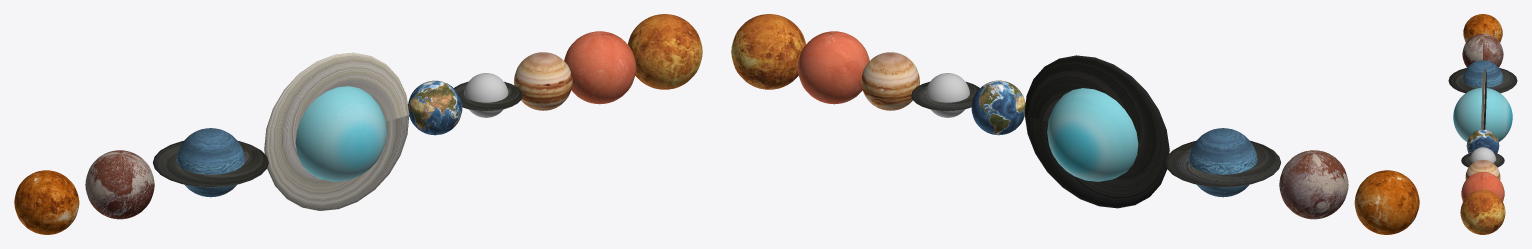
Rendered from planet-pack.obj.
3 renders of one model, left to right at view 1: azimuth 30°, elevation 25°; view 2: azimuth 150°, elevation 25°; view 3: azimuth 270°, elevation 25°, orthographic. The views are drawn at different scales.
Visible parts, largest first — view 1: Torus1, Sphere3, Sphere8, Sphere7, Sphere1, Sphere, Sphere2, Sphere6, Torus, Sphere4, Sphere5, Torus2; view 2: Torus1, Sphere3, Sphere8, Sphere7, Sphere1, Sphere, Sphere2, Sphere6, Torus, Sphere4, Sphere5, Torus2; view 3: Sphere3, Sphere8, Sphere1, Sphere2, Sphere7, Sphere, Torus, Sphere4, Sphere6, Sphere5, Torus1, Torus2.
Boxes of the visible parts, left/top/right/bottom form: Torus1: left=264, top=52, right=409, bottom=210; Sphere3: left=295, top=86, right=386, bottom=181; Sphere8: left=627, top=14, right=702, bottom=89; Sphere7: left=564, top=31, right=636, bottom=104; Sphere1: left=85, top=150, right=154, bottom=219; Sphere: left=14, top=170, right=79, bottom=234; Sphere2: left=176, top=128, right=245, bottom=197; Sphere6: left=514, top=52, right=572, bottom=110; Torus: left=153, top=141, right=268, bottom=187; Sphere4: left=408, top=80, right=462, bottom=135; Sphere5: left=464, top=73, right=508, bottom=117; Torus2: left=454, top=81, right=522, bottom=111; Torus1: left=1024, top=55, right=1169, bottom=208; Sphere3: left=1047, top=88, right=1138, bottom=181; Sphere8: left=731, top=14, right=806, bottom=89; Sphere7: left=797, top=31, right=869, bottom=104; Sphere1: left=1279, top=150, right=1348, bottom=219; Sphere: left=1354, top=170, right=1419, bottom=234; Sphere2: left=1188, top=128, right=1257, bottom=197; Sphere6: left=861, top=52, right=919, bottom=110; Torus: left=1165, top=141, right=1280, bottom=187; Sphere4: left=971, top=80, right=1025, bottom=135; Sphere5: left=925, top=73, right=969, bottom=117; Torus2: left=911, top=81, right=979, bottom=111; Sphere3: left=1453, top=87, right=1512, bottom=141; Sphere8: left=1460, top=190, right=1505, bottom=234; Sphere1: left=1462, top=34, right=1503, bottom=67; Sphere2: left=1462, top=60, right=1503, bottom=87; Sphere7: left=1461, top=172, right=1504, bottom=201; Sphere: left=1463, top=14, right=1502, bottom=42; Torus: left=1448, top=67, right=1517, bottom=93; Sphere4: left=1466, top=129, right=1499, bottom=153; Sphere6: left=1465, top=159, right=1500, bottom=179; Sphere5: left=1469, top=147, right=1496, bottom=162; Torus1: left=1480, top=68, right=1486, bottom=129; Torus2: left=1461, top=152, right=1504, bottom=167.
Size of the model in its own units: 7.85 by 1.68 by 1.16.
